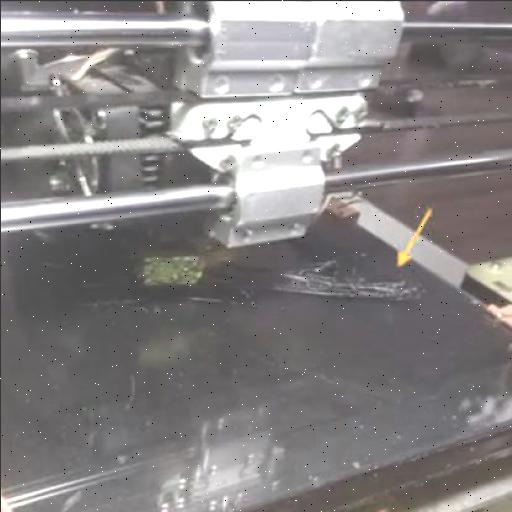spaghetti: (397, 274, 428, 302), (308, 257, 344, 275)
